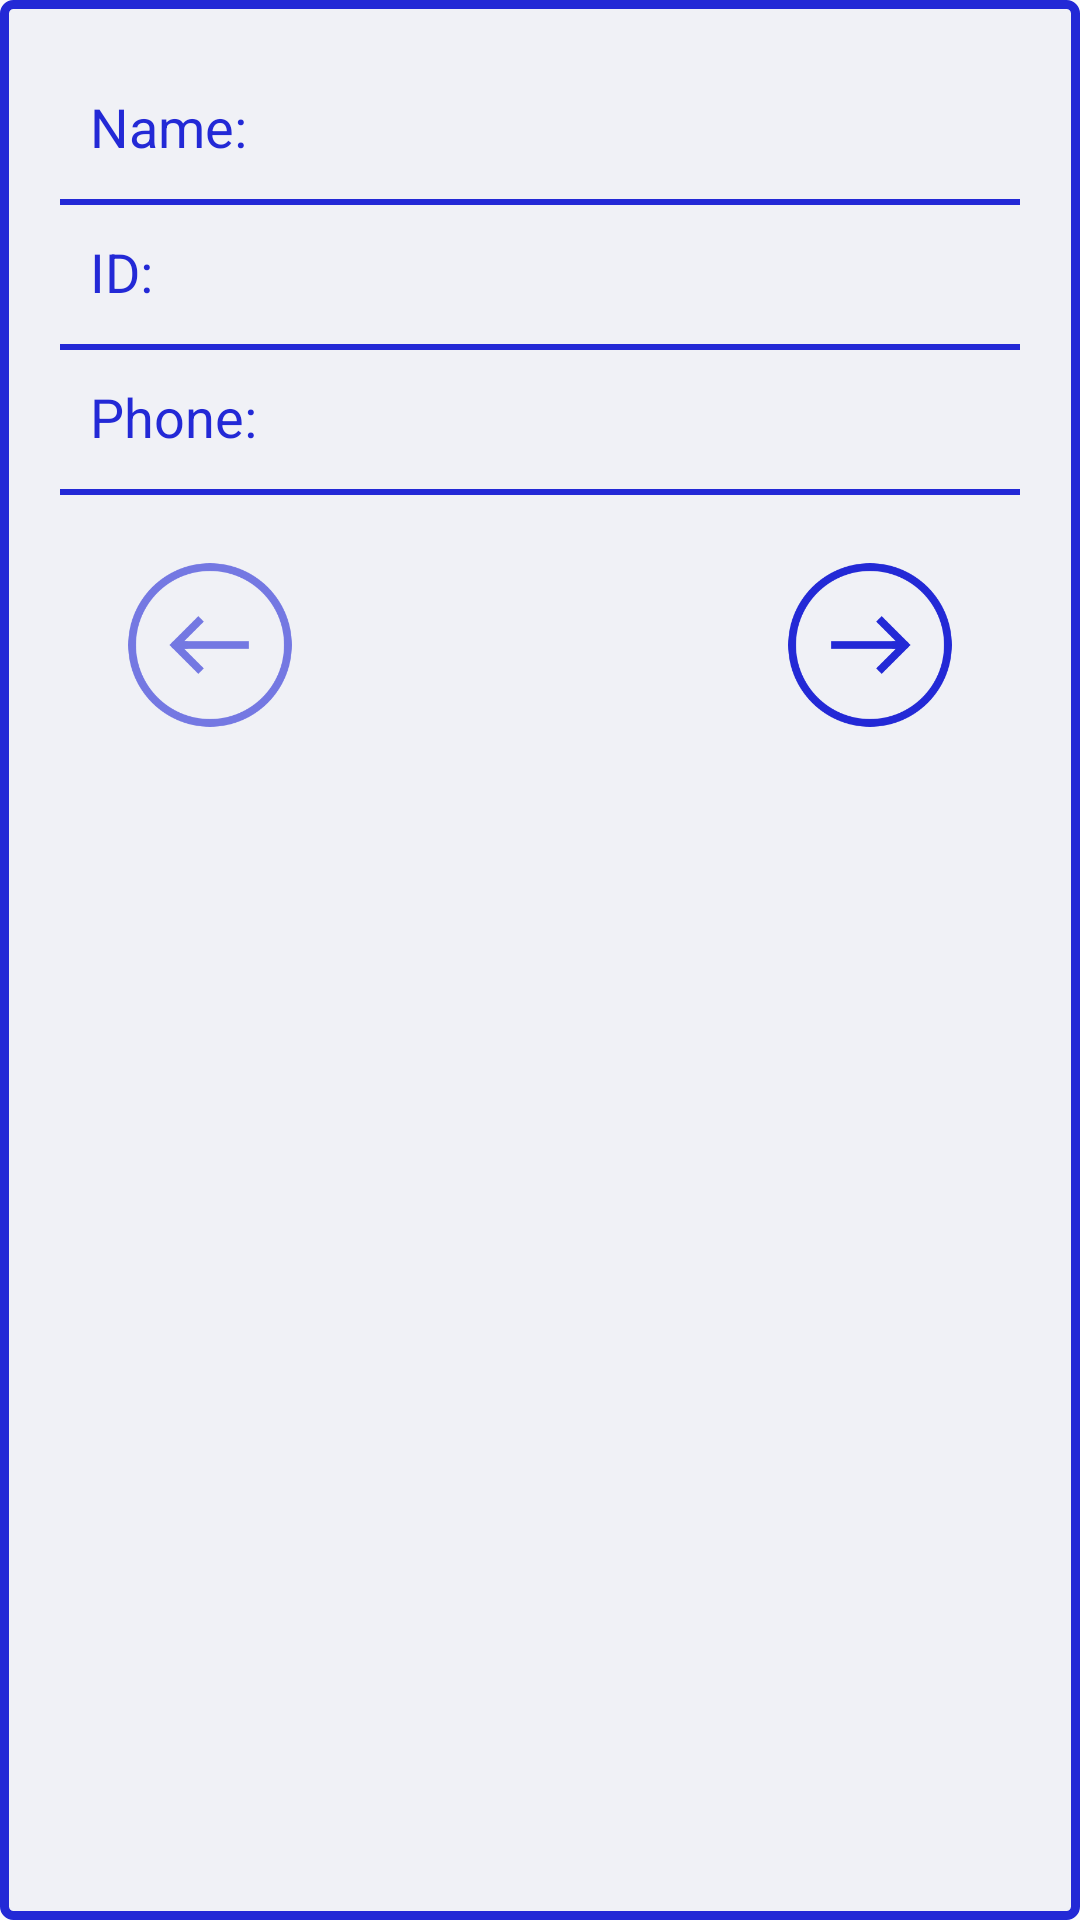

Named icons in this screenshot (1080*1920) and their centers, (x=x, y=y):
back: (x=210, y=645)
next: (x=870, y=645)
